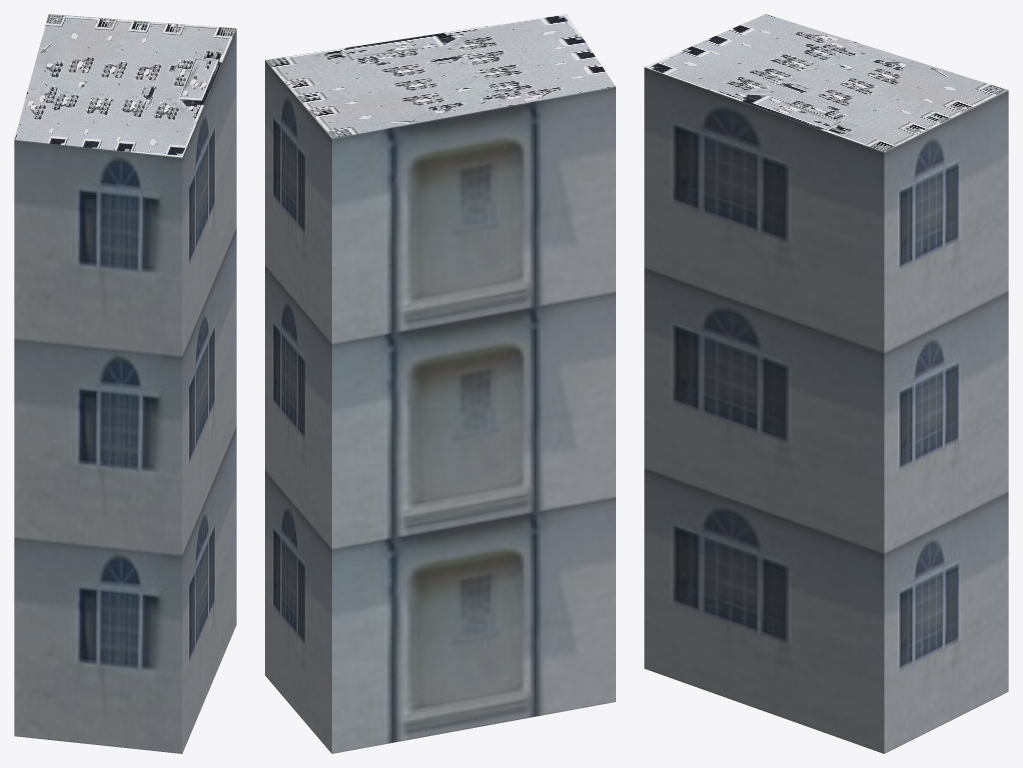
File: ResTex__3249.fbx
3 renders of one model, left to right at view 1: azimuth 30°, elevation 25°; view 2: azimuth 150°, elevation 25°; view 3: azimuth 270°, elevation 25°, orthographic. The views are drawn at different scales.
Parts seen in each view (by area): view 1: CityEngineMaterial_17_m, CityEngineMaterial_4_m; view 2: CityEngineMaterial_17_m, CityEngineMaterial_4_m; view 3: CityEngineMaterial_17_m, CityEngineMaterial_4_m.
Part boxes in pixels (left/top/right/bottom): CityEngineMaterial_17_m: left=14, top=29, right=236, bottom=753; CityEngineMaterial_4_m: left=14, top=14, right=236, bottom=157; CityEngineMaterial_17_m: left=265, top=60, right=615, bottom=753; CityEngineMaterial_4_m: left=265, top=14, right=615, bottom=138; CityEngineMaterial_17_m: left=644, top=67, right=1008, bottom=753; CityEngineMaterial_4_m: left=644, top=14, right=1008, bottom=152.
Size of the model in its own units: 4.44 by 9 by 4.94.
2 materials, 2 textured.
